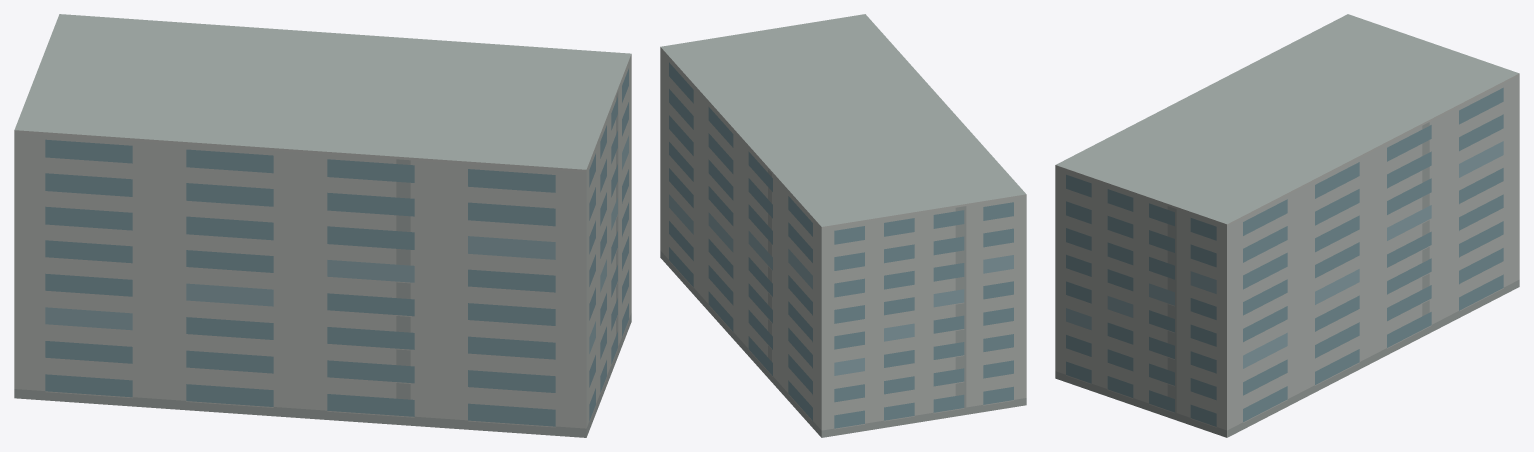
Rendered from residential-0f9e2e18-2388-4264-89b2-ac19571f7ee0.glb.
3 views of the same model, side by side, from view 1: azimuth 30°, elevation 25°; view 2: azimuth 150°, elevation 25°; view 3: azimuth 270°, elevation 25° (orthographic). The views are drawn at different scales.
Parts seen in each view (by area): view 1: residential-0f9e2e18-2388-4264-89b2-ac19571f7ee0.tmp; view 2: residential-0f9e2e18-2388-4264-89b2-ac19571f7ee0.tmp; view 3: residential-0f9e2e18-2388-4264-89b2-ac19571f7ee0.tmp.
Part boxes in pixels (box(x1,y1,x2,y2)): residential-0f9e2e18-2388-4264-89b2-ac19571f7ee0.tmp: box(14, 14, 631, 437); residential-0f9e2e18-2388-4264-89b2-ac19571f7ee0.tmp: box(660, 14, 1026, 437); residential-0f9e2e18-2388-4264-89b2-ac19571f7ee0.tmp: box(1055, 14, 1519, 437).
Bounding box in the file's own units: 51.55 × 24.4 × 48.07.
